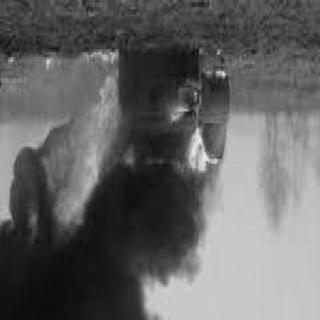Fire: (172, 126, 222, 182), (86, 51, 116, 69), (209, 66, 229, 82)
Smoke: (92, 180, 214, 318), (6, 238, 90, 314)
